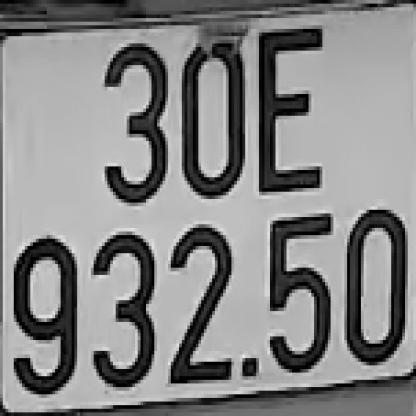0: (182, 43, 242, 199), (344, 206, 402, 366)
2: (171, 220, 228, 380)
3: (102, 43, 168, 206), (94, 228, 154, 387)
5: (267, 210, 331, 365)
9: (8, 232, 80, 394)
E: (254, 29, 325, 195)
